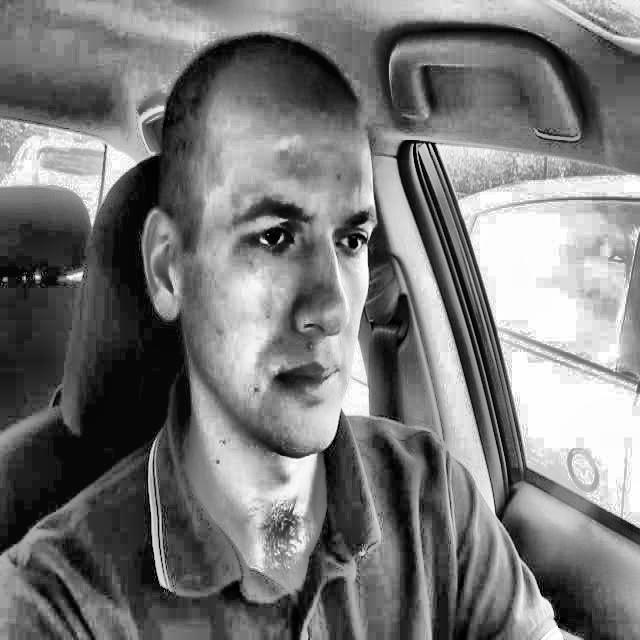closed_mouth: (263, 343, 364, 419)
open_eyes: (235, 213, 311, 271), (323, 221, 381, 271)
